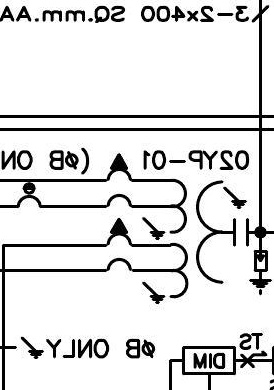115_cvt_1p: (104, 152, 250, 305)
115_la: (249, 250, 273, 296)
DIM: (182, 346, 236, 375)
